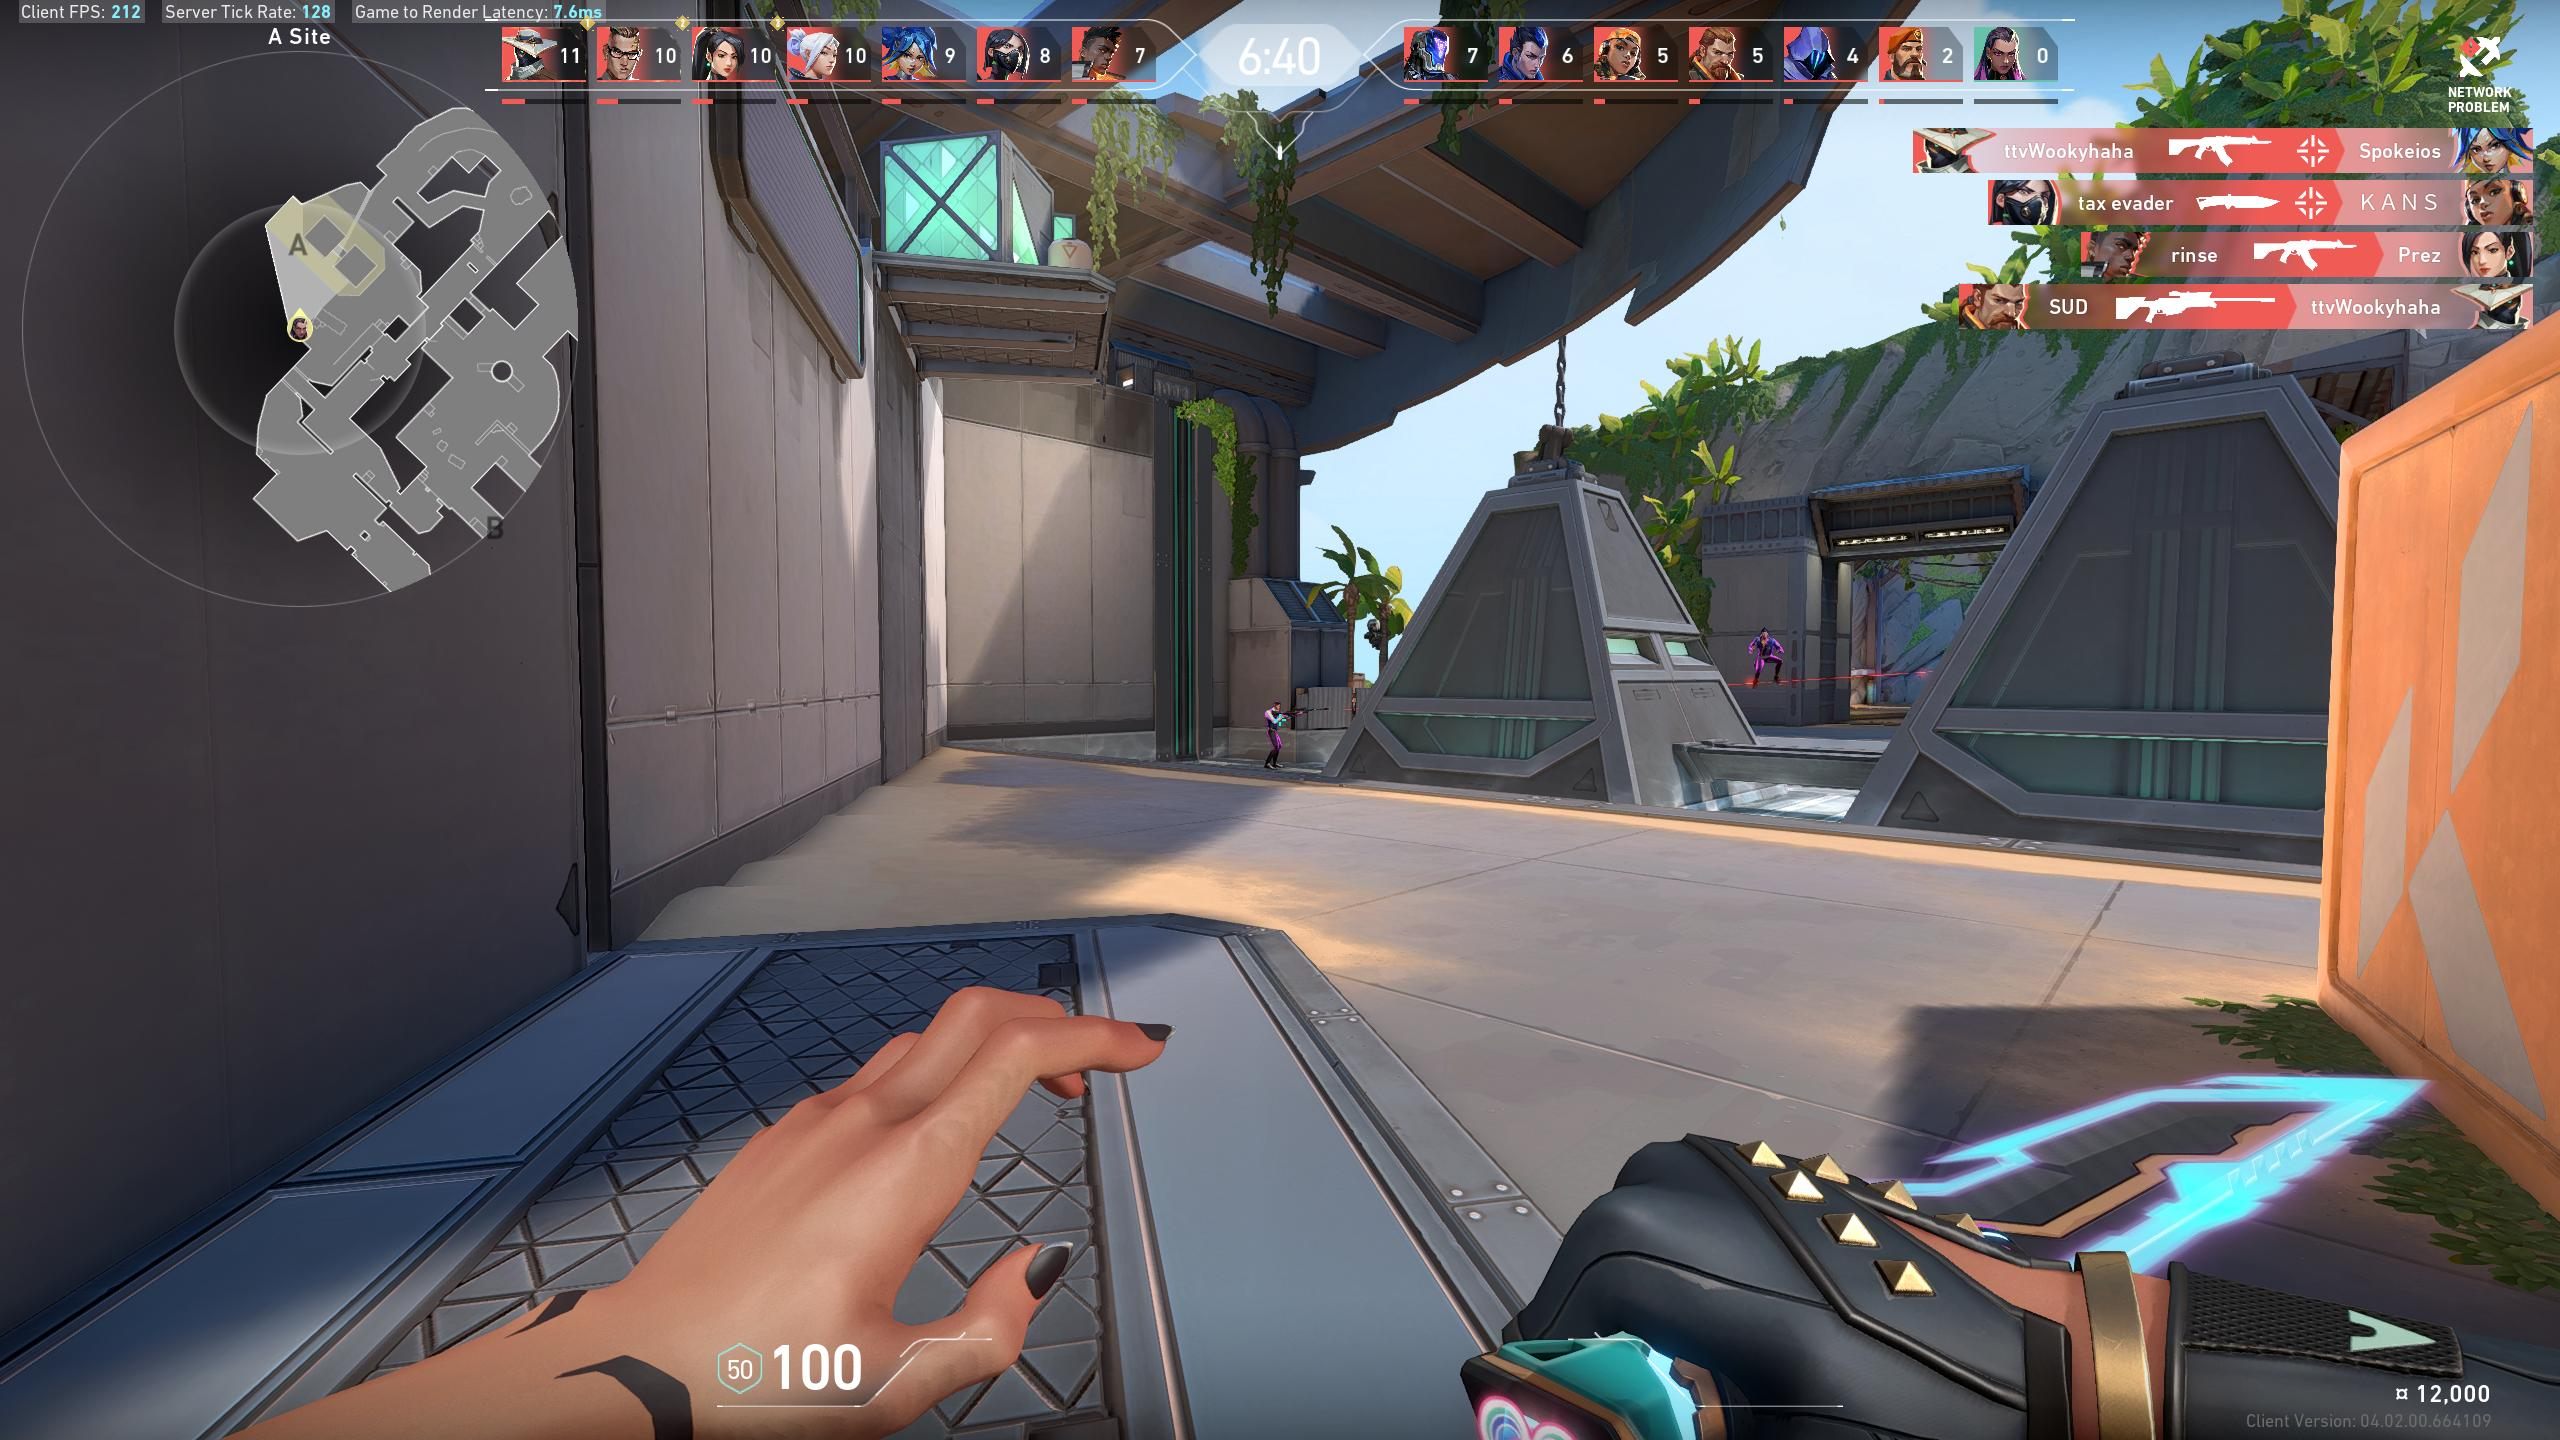enemyBody: (1760, 638, 1771, 656), (1269, 714, 1275, 730)
enemyHead: (1764, 631, 1767, 638), (1275, 703, 1278, 710)
